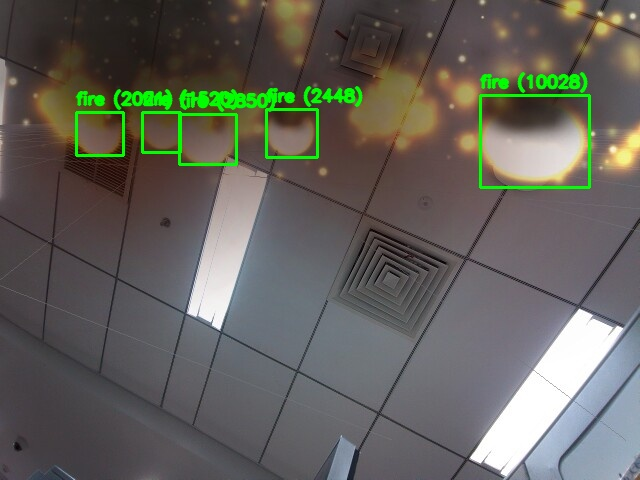fire: (480, 95, 589, 187), (179, 114, 236, 164), (266, 109, 317, 157), (76, 112, 123, 155), (142, 112, 180, 152)
